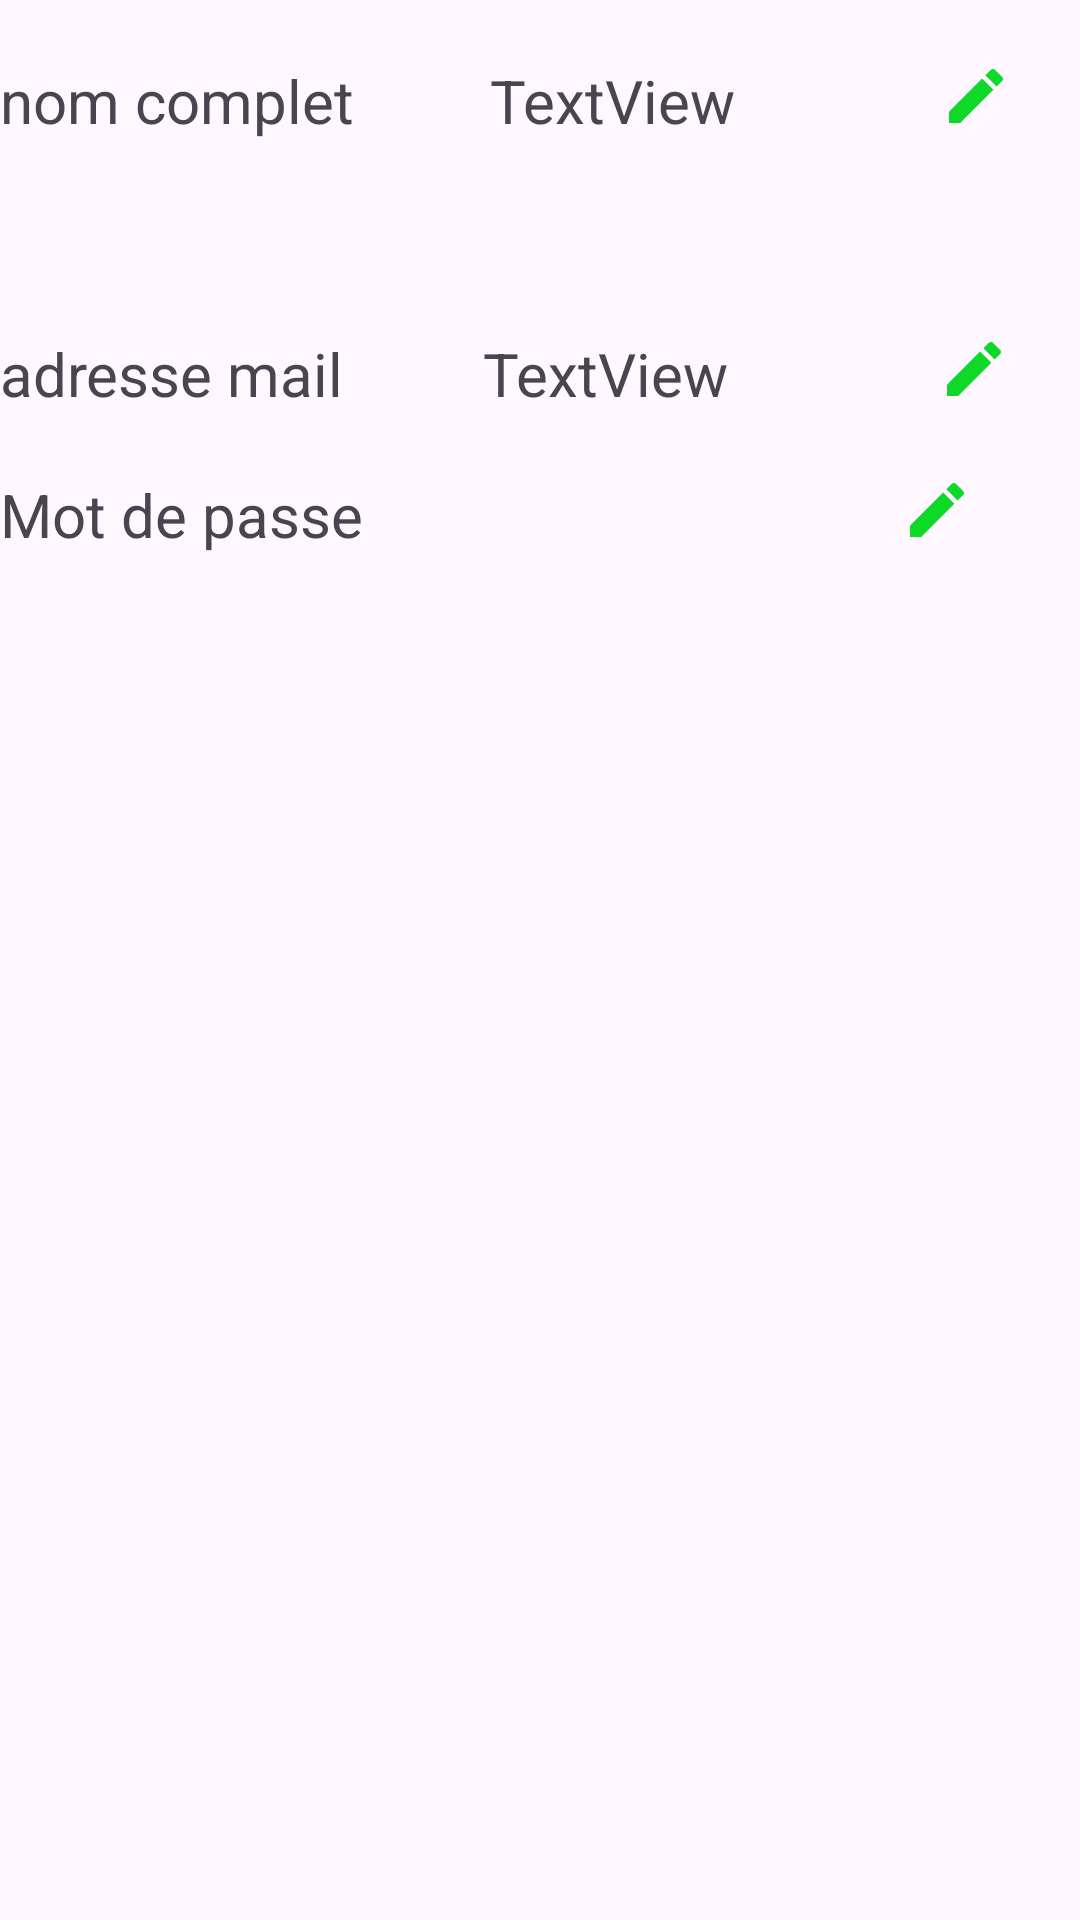

Screen size 1080px×1920px. Icon name, then its center in pixels as (x,y):
editprofile: (976,96), (974,369), (937,510)
